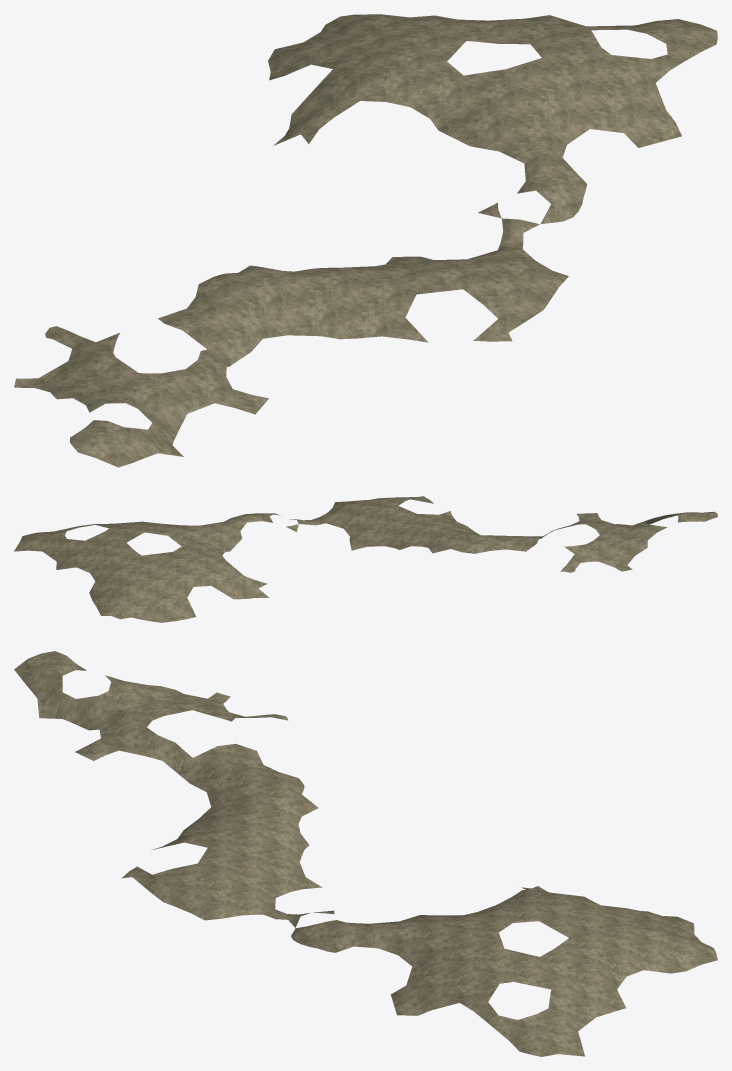
The model's file is EKH_CAVERNS_PS_CA_MAIN_ROOF8474636.fbx.
The picture shows the model from 3 angles, top to bottom: view 1: azimuth 30°, elevation 25°; view 2: azimuth 150°, elevation 25°; view 3: azimuth 270°, elevation 25°; orthographic projection. The views are drawn at different scales.
Visible parts, largest first — view 1: EKH_CAVERNS_PS_CA_MAIN_ROOF8474636; view 2: EKH_CAVERNS_PS_CA_MAIN_ROOF8474636; view 3: EKH_CAVERNS_PS_CA_MAIN_ROOF8474636.
Part boxes in pixels (x1,y1,x2,y2): EKH_CAVERNS_PS_CA_MAIN_ROOF8474636: [14, 14, 717, 467]; EKH_CAVERNS_PS_CA_MAIN_ROOF8474636: [14, 496, 717, 622]; EKH_CAVERNS_PS_CA_MAIN_ROOF8474636: [14, 651, 717, 1056].
Bounding box in the file's own units: 906511 × 52860 × 724033.
1 material, 1 textured.
